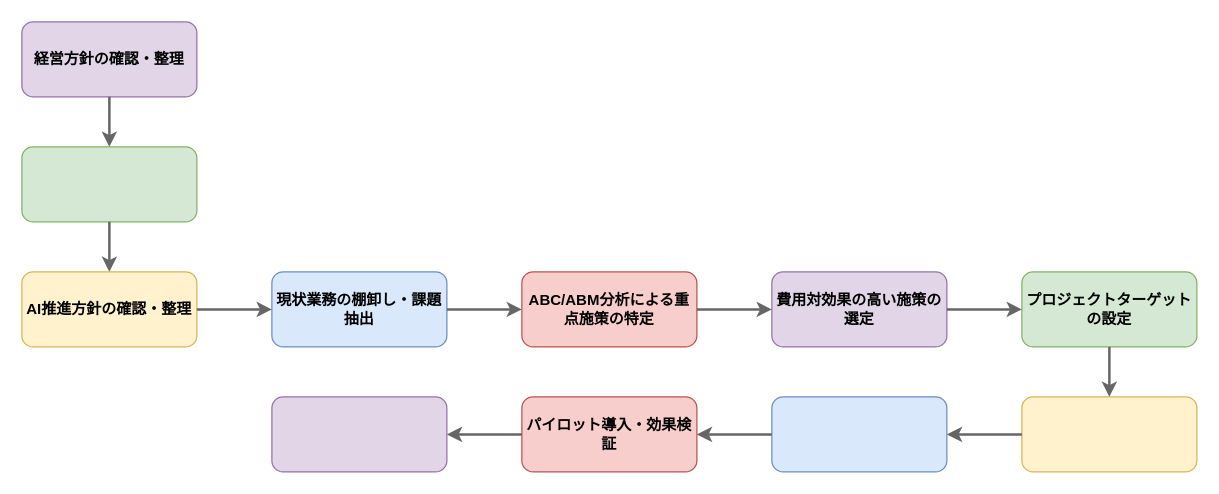
Some shapes in this 1219 by 494 pixel diagram are drawn without their labels. Each missing label, with the box of its shape:
DX推進方針の確認・整理: (21, 146, 197, 222)
プロジェクト基本方針の策定: (1021, 396, 1197, 472)
プロジェクト計画書の作成: (771, 396, 947, 472)
全社展開・継続的改善: (271, 396, 447, 472)
